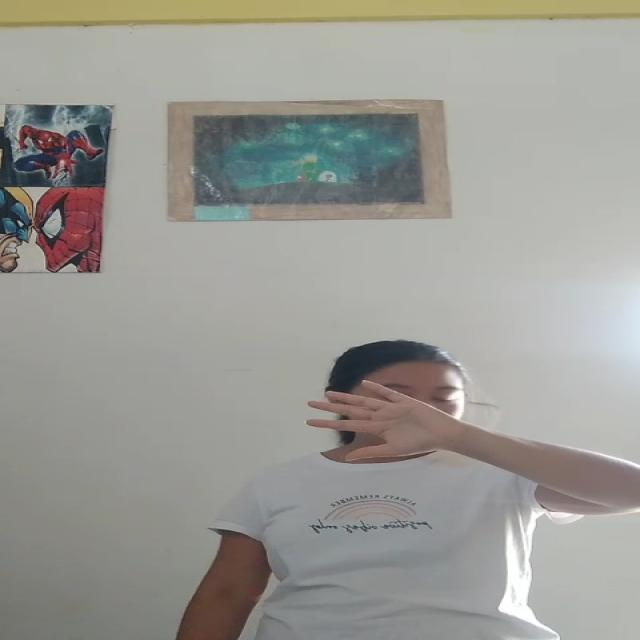7_mano_rostro: (333, 381, 564, 462)
